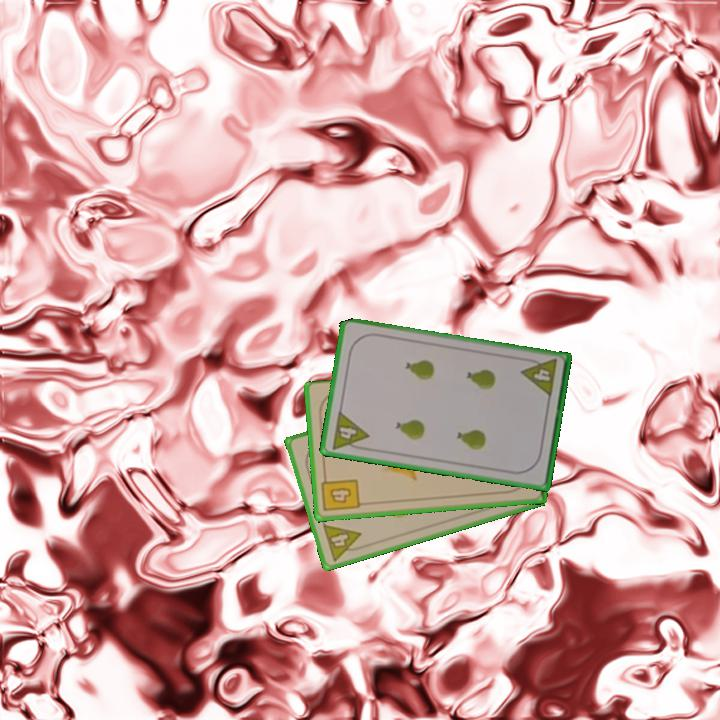4b: (318, 472, 362, 514)
4p: (319, 520, 368, 564), (328, 408, 372, 454), (518, 355, 560, 400)
